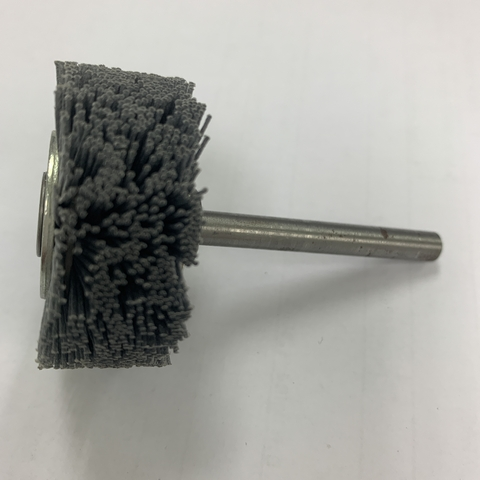Wheel Brush: (25, 57, 454, 365), (24, 82, 443, 355), (21, 116, 453, 372), (23, 46, 293, 376), (24, 32, 252, 421)
